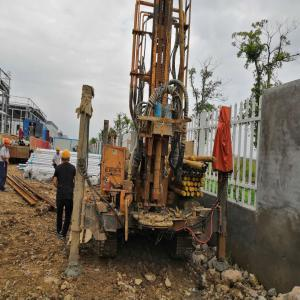red: (20, 128, 23, 132), (32, 123, 34, 127)
yellow: (62, 150, 72, 164), (5, 138, 12, 149), (57, 147, 61, 155)
